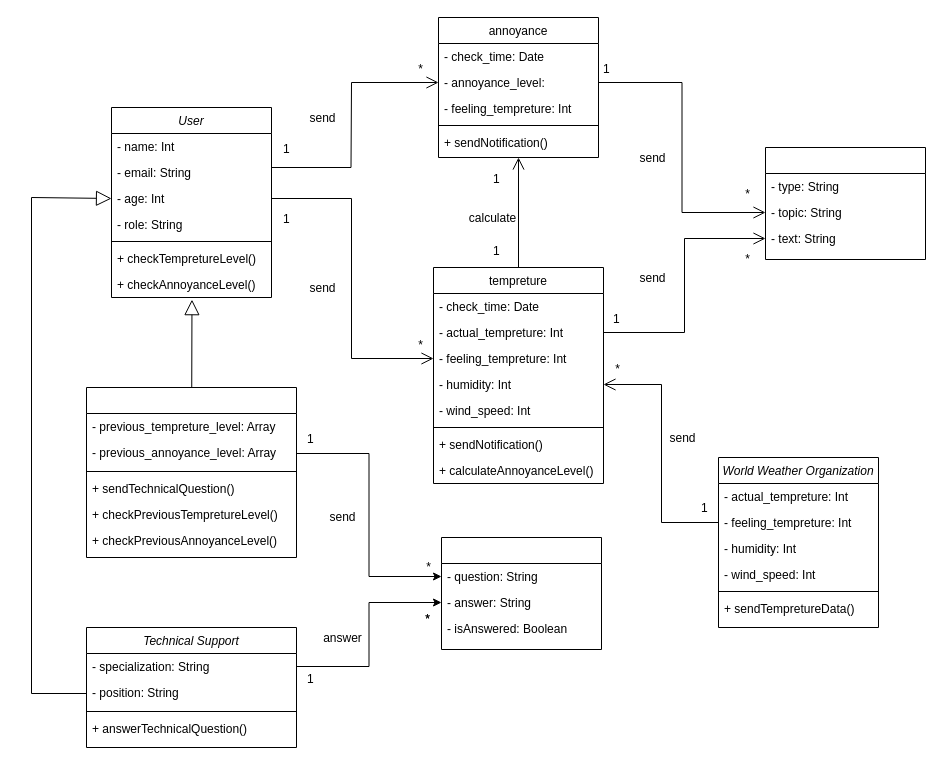
This 943x765 diagram has some shape labels left out. Each missing label, with the box of its shape:
Consumer: (86, 386, 296, 558)
notification: (764, 146, 926, 260)
technical question: (440, 536, 602, 650)
